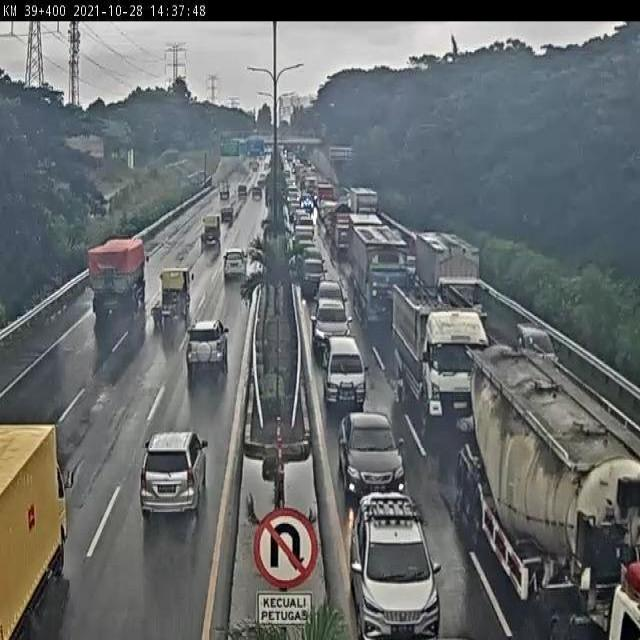car: (351, 492, 438, 636)
truck-l-: (390, 277, 479, 412), (351, 223, 413, 325), (412, 229, 476, 316), (89, 234, 150, 314)
truck-s-: (148, 269, 195, 328), (198, 215, 223, 253)
truck-xl-: (469, 345, 640, 639)
